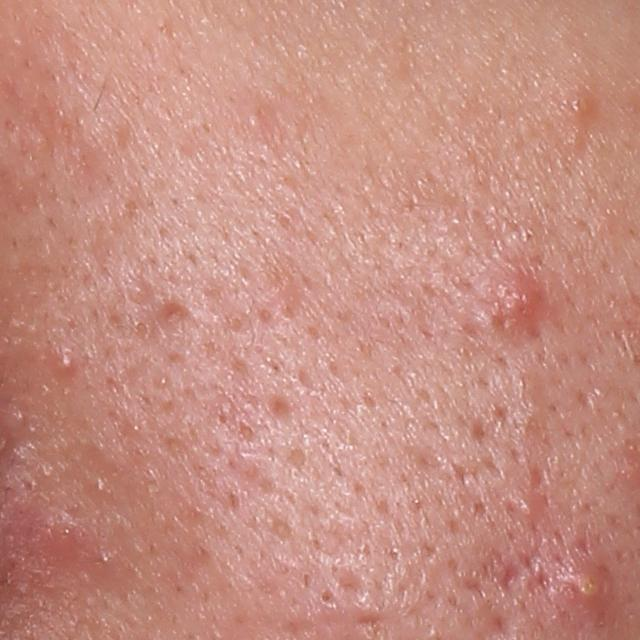atrophic_scar: (475, 524, 598, 601), (157, 300, 204, 347), (264, 395, 301, 427)
comedo: (560, 88, 595, 121), (321, 585, 340, 612), (246, 112, 263, 129)
papule: (481, 264, 553, 332), (512, 490, 546, 521), (51, 349, 77, 382)
pustule: (572, 557, 619, 606)
